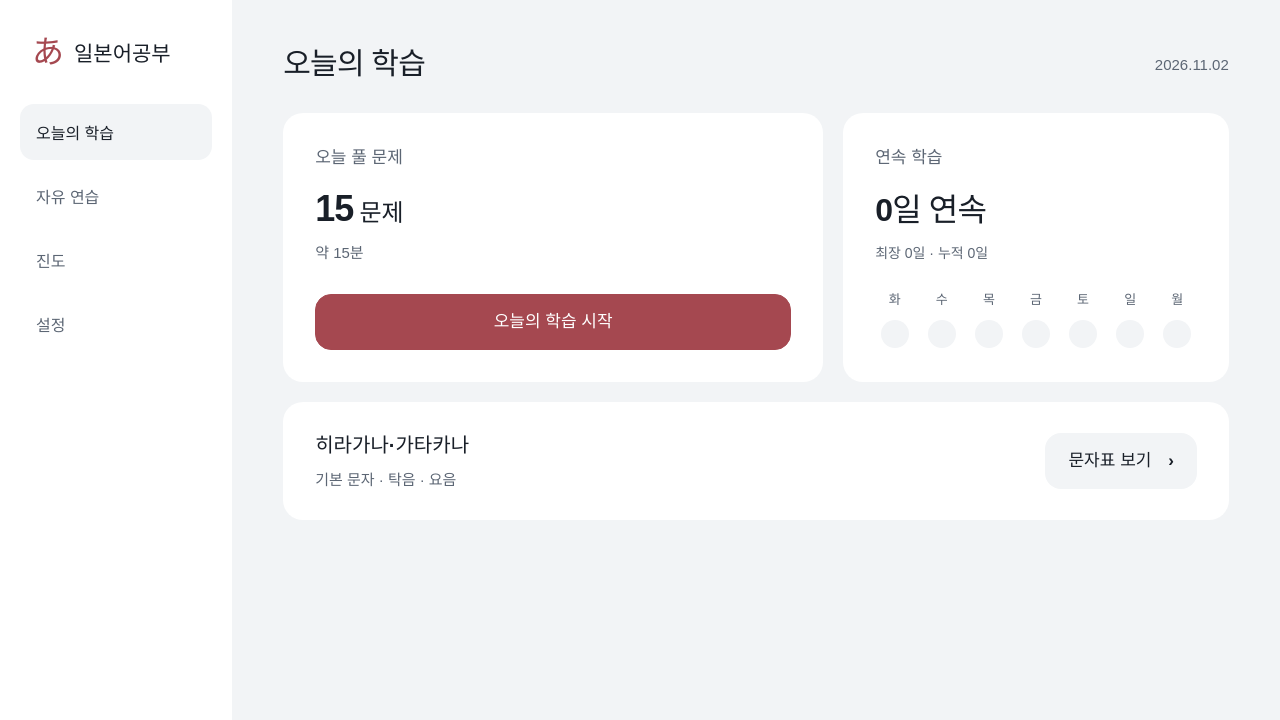
Test case: tells users to reload after another tab changes their progress
Click the button "오늘의 학습 시작".
click(553, 322)  # box [315,294,791,350]
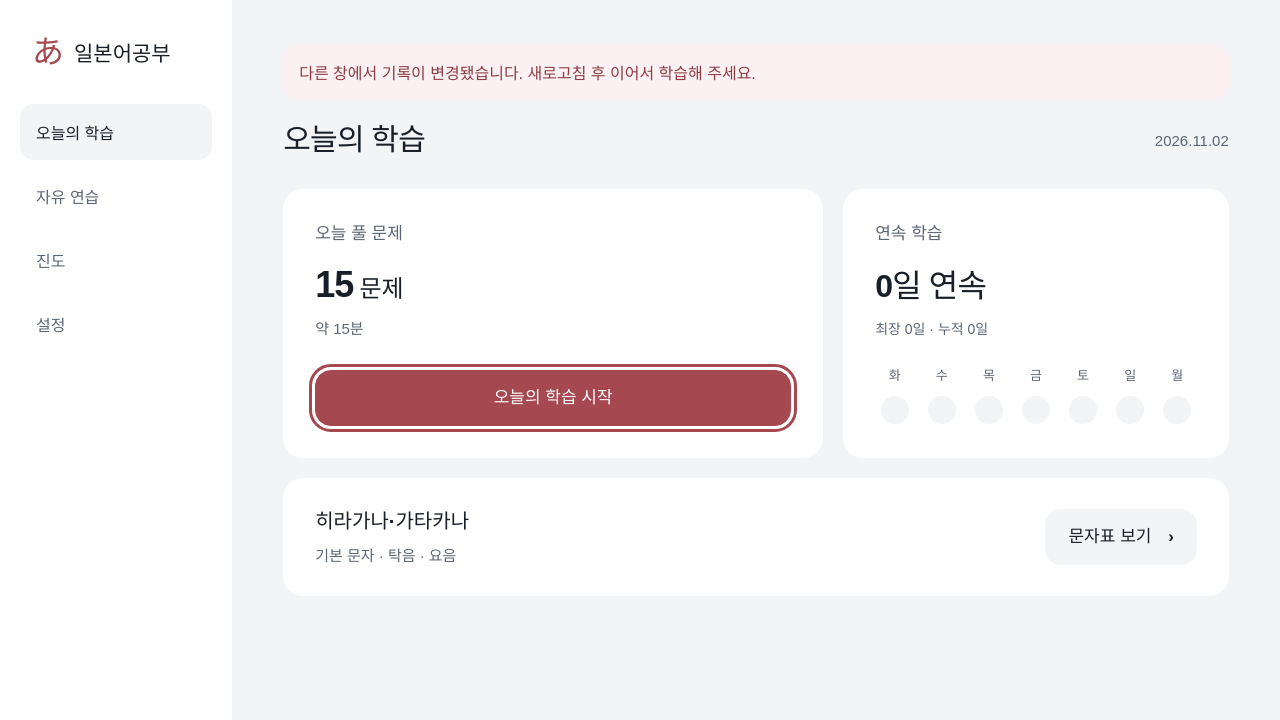
Now the message shows "새로고침", box [299,65,756,82]
